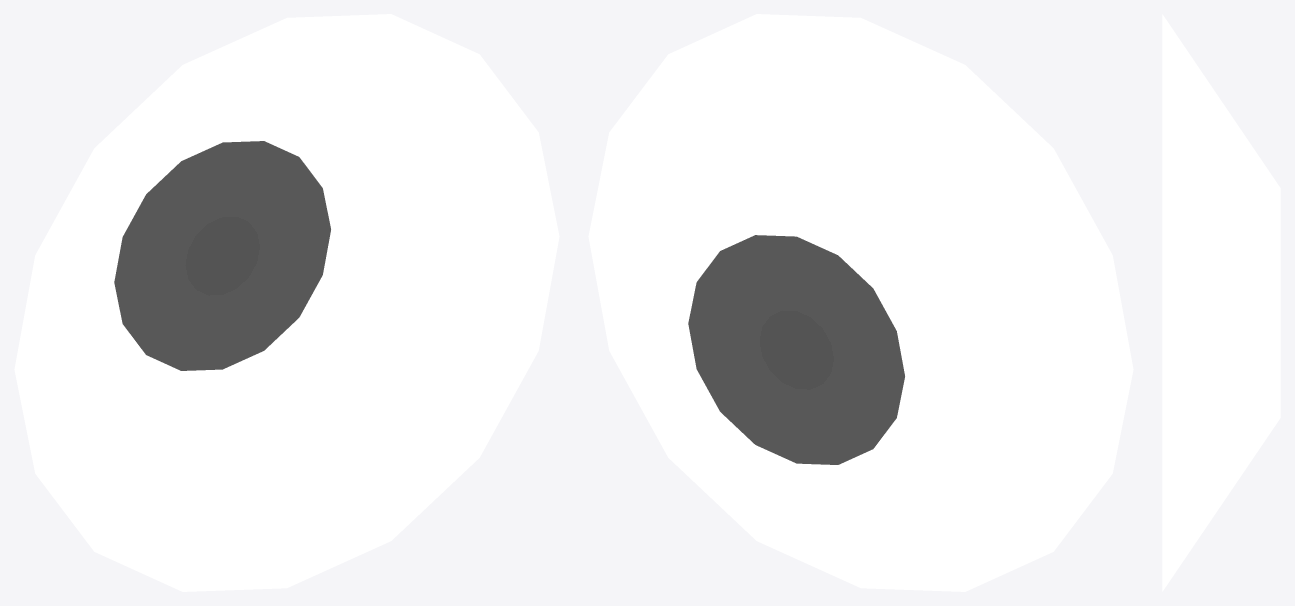
The picture shows the model from 3 angles, left to right: view 1: azimuth 30°, elevation 25°; view 2: azimuth 150°, elevation 25°; view 3: azimuth 270°, elevation 25°; orthographic projection. The views are drawn at different scales.
Parts seen in each view (by area): view 1: group_25, group_13; view 2: group_25, group_13; view 3: group_25.
Boxes of the visible parts, bbox=[...] form: group_25: bbox=[14, 14, 559, 591]; group_13: bbox=[114, 141, 330, 370]; group_25: bbox=[588, 14, 1133, 591]; group_13: bbox=[688, 235, 904, 464]; group_25: bbox=[1162, 14, 1280, 591].
Bounding box in the file's own units: 4432 × 4432 × 905.
Materials: 2 (2 with a texture image).
